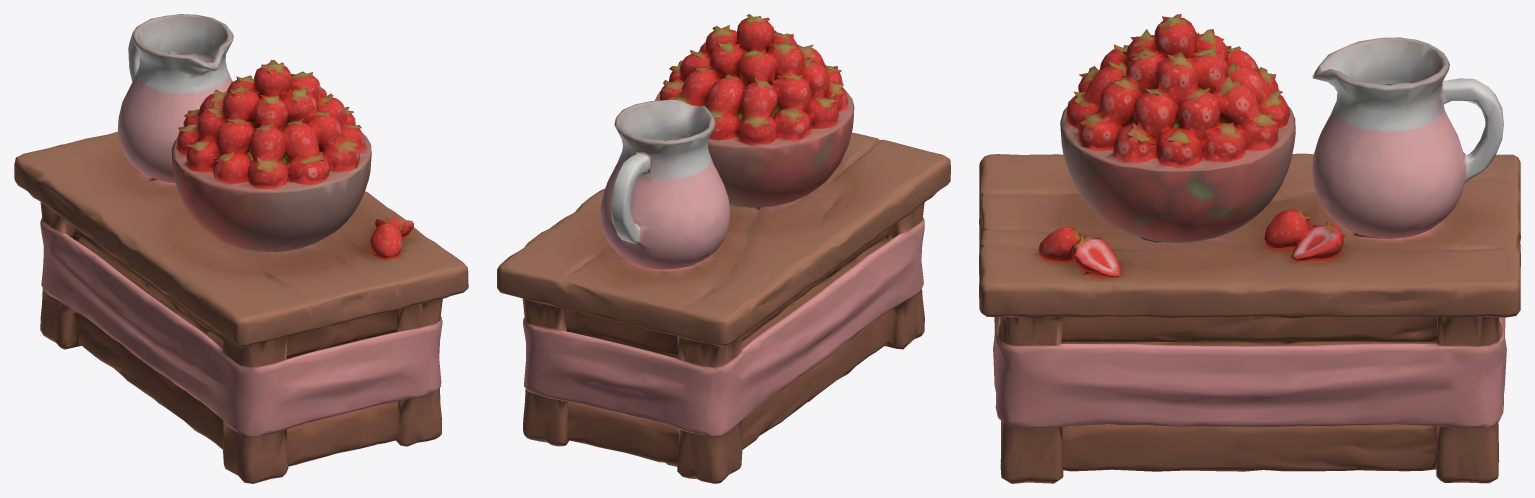
File: KR_사물_s1_station_topping_t3_v2.glb
3 views of the same model, side by side, from view 1: azimuth 30°, elevation 25°; view 2: azimuth 150°, elevation 25°; view 3: azimuth 270°, elevation 25° (orthographic). The views are drawn at different scales.
Parts seen in each view (by area): view 1: tripo_node_20579778-a3fc-4022-9f20-27d771729a30; view 2: tripo_node_20579778-a3fc-4022-9f20-27d771729a30; view 3: tripo_node_20579778-a3fc-4022-9f20-27d771729a30.
Boxes of the visible parts, <box> form: tripo_node_20579778-a3fc-4022-9f20-27d771729a30: <box>14,14,468,483</box>; tripo_node_20579778-a3fc-4022-9f20-27d771729a30: <box>497,14,950,483</box>; tripo_node_20579778-a3fc-4022-9f20-27d771729a30: <box>979,14,1520,483</box>.
Size of the model in its own units: 0.5898 by 0.8348 by 1.
Materials: 1 (1 with a texture image).
